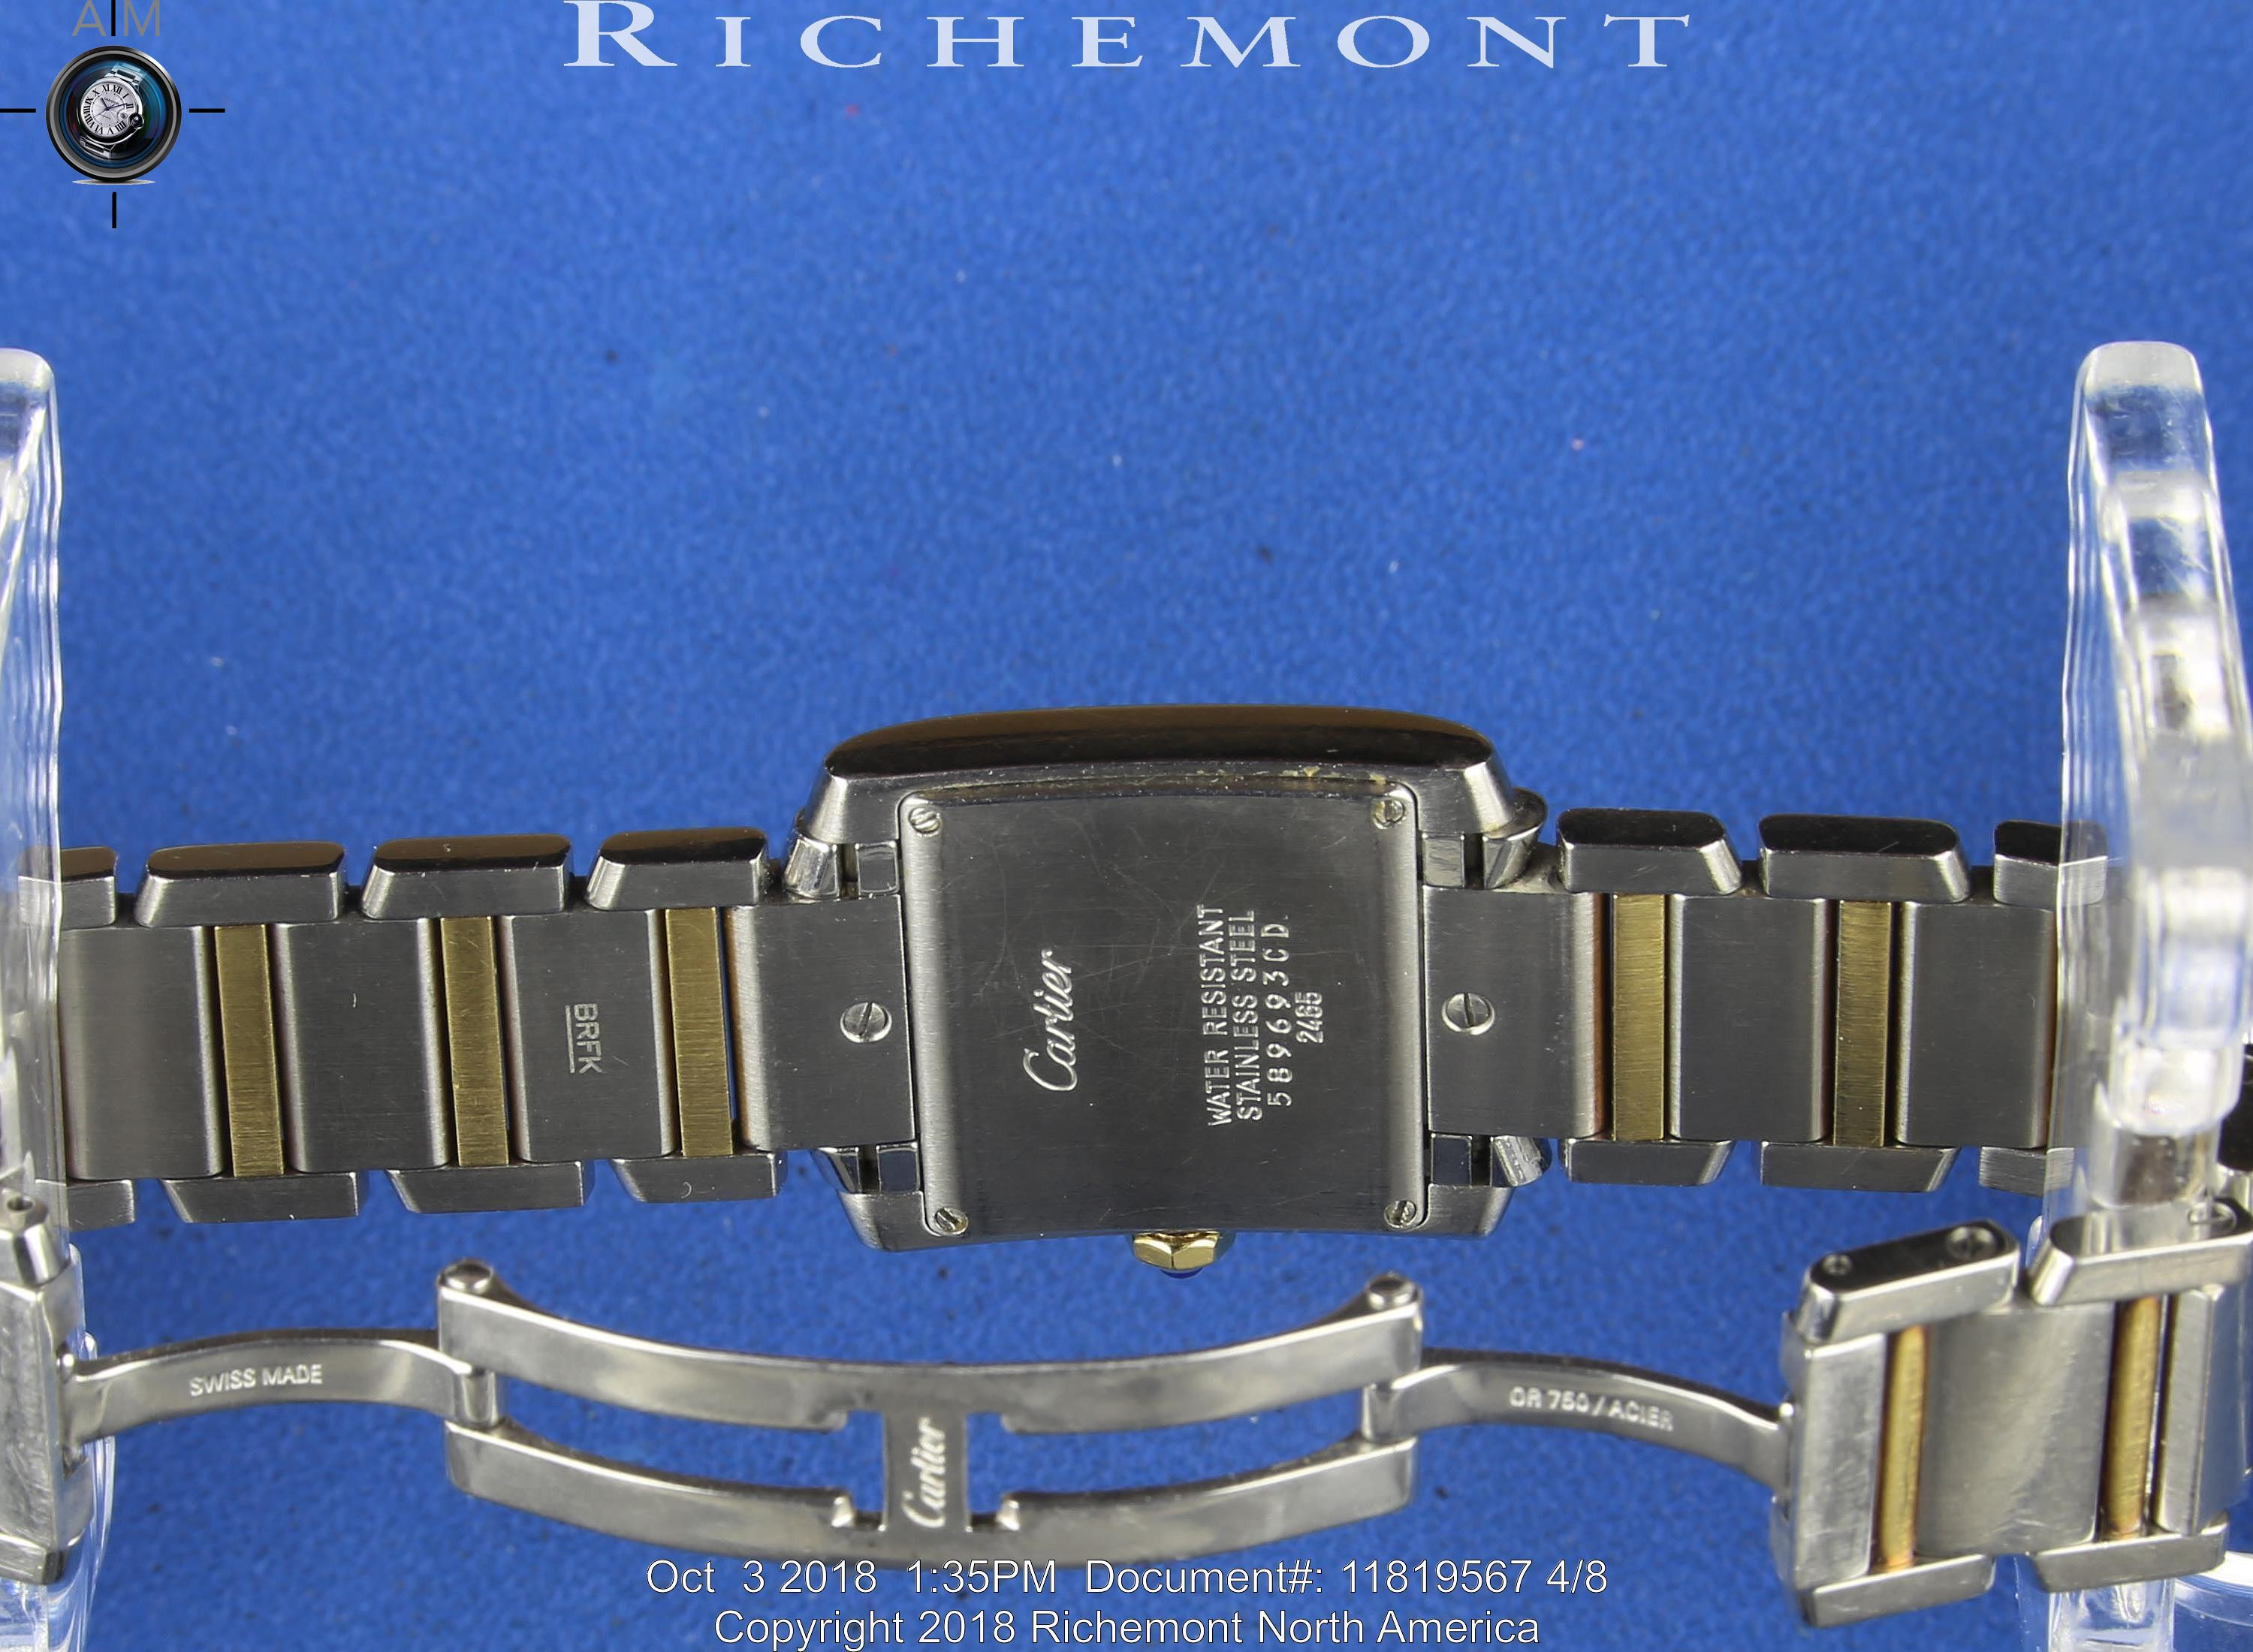watchback: (745, 764, 1536, 1246)
